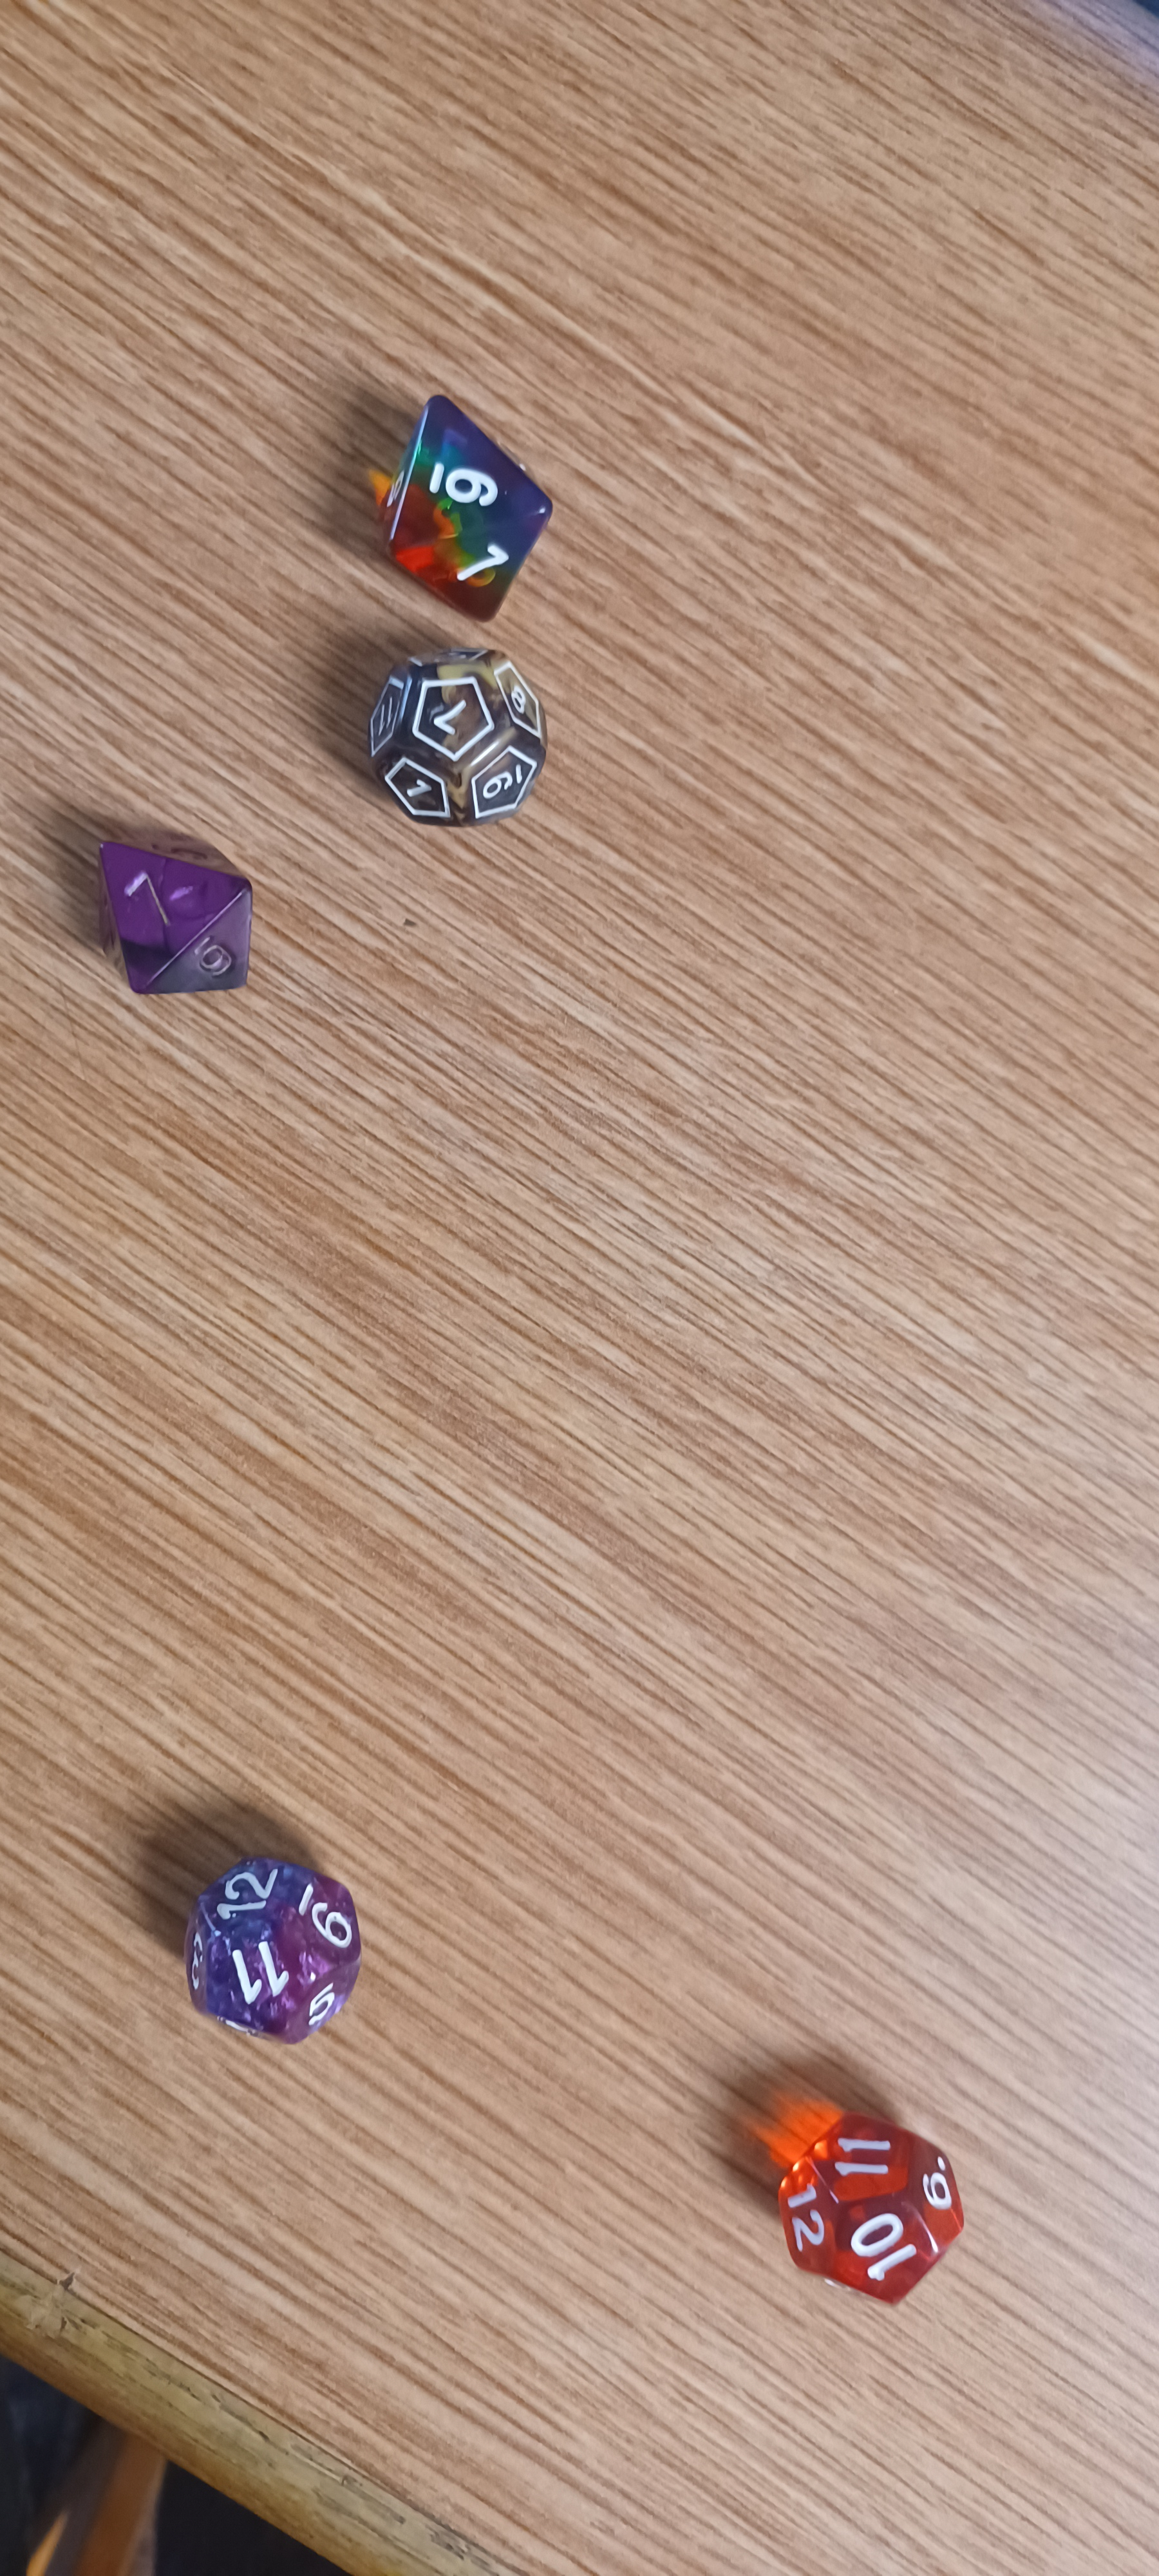eleven: (118, 1825, 430, 2085)
seven: (320, 613, 601, 853), (66, 823, 289, 1010)
six: (337, 371, 601, 636)
ten: (735, 2049, 1015, 2341)
